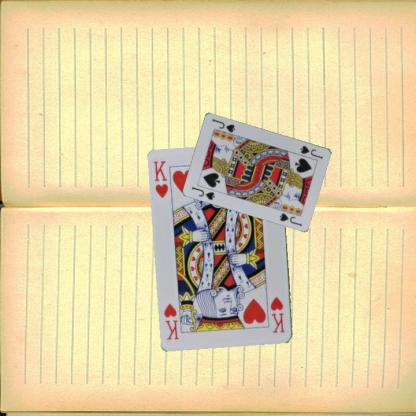Js: (298, 143, 324, 160), (190, 184, 216, 201)
Kh: (151, 158, 170, 200), (268, 294, 286, 335)
